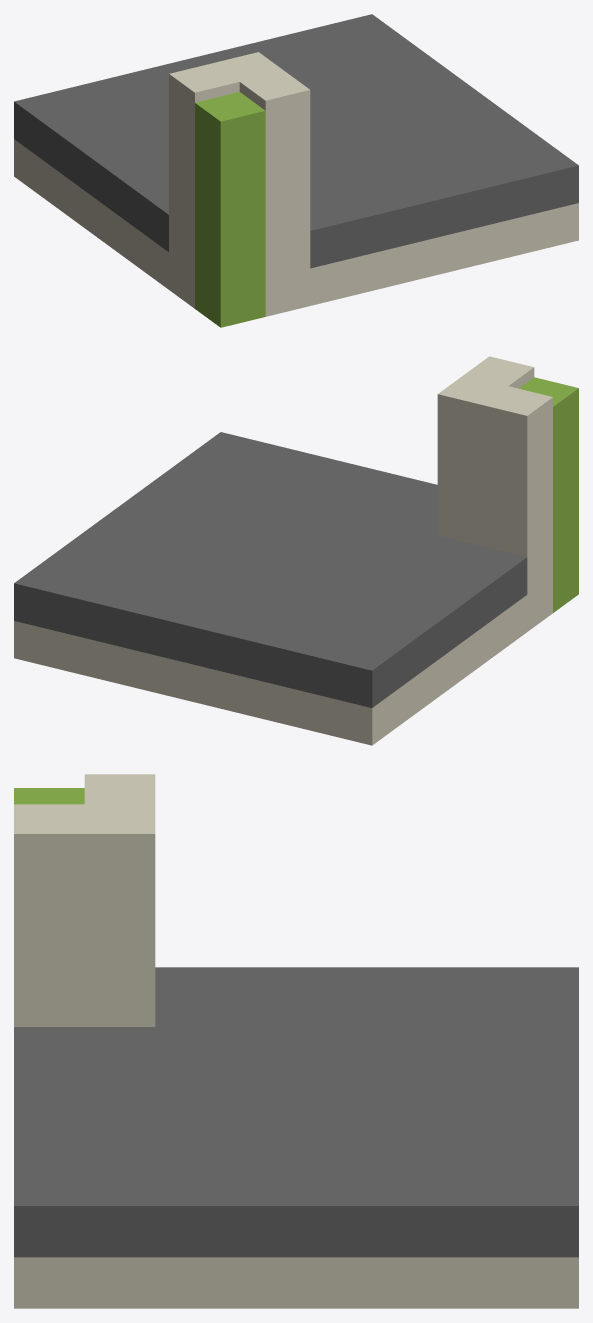
Rendered from tile180.dae.
3 views of the same model, one above another, from view 1: azimuth 30°, elevation 25°; view 2: azimuth 150°, elevation 25°; view 3: azimuth 270°, elevation 25° (orthographic). The views are drawn at different scales.
Parts seen in each view (by area): view 1: tile180; view 2: tile180; view 3: tile180.
Part boxes in pixels (bbox=[...]): tile180: bbox=[14, 14, 578, 327]; tile180: bbox=[14, 356, 578, 745]; tile180: bbox=[14, 774, 578, 1308].
Size of the model in its own units: 1 by 0.5767 by 1.
